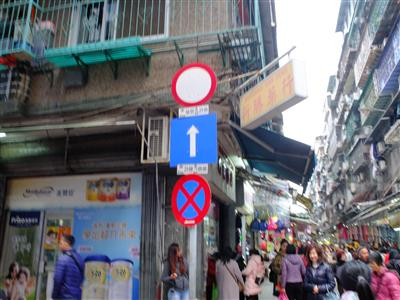closedToAll: (167, 60, 218, 106)
noStopping: (166, 171, 216, 230)
oneway: (167, 113, 220, 167)
